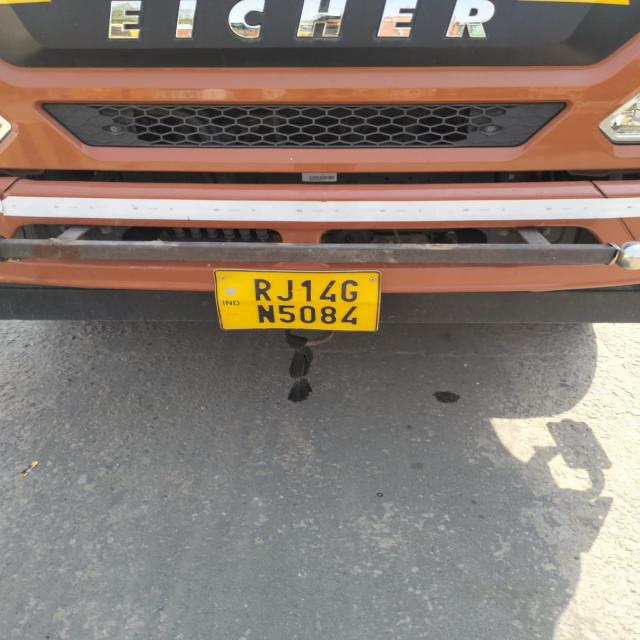License-plate: (217, 272, 377, 328)
